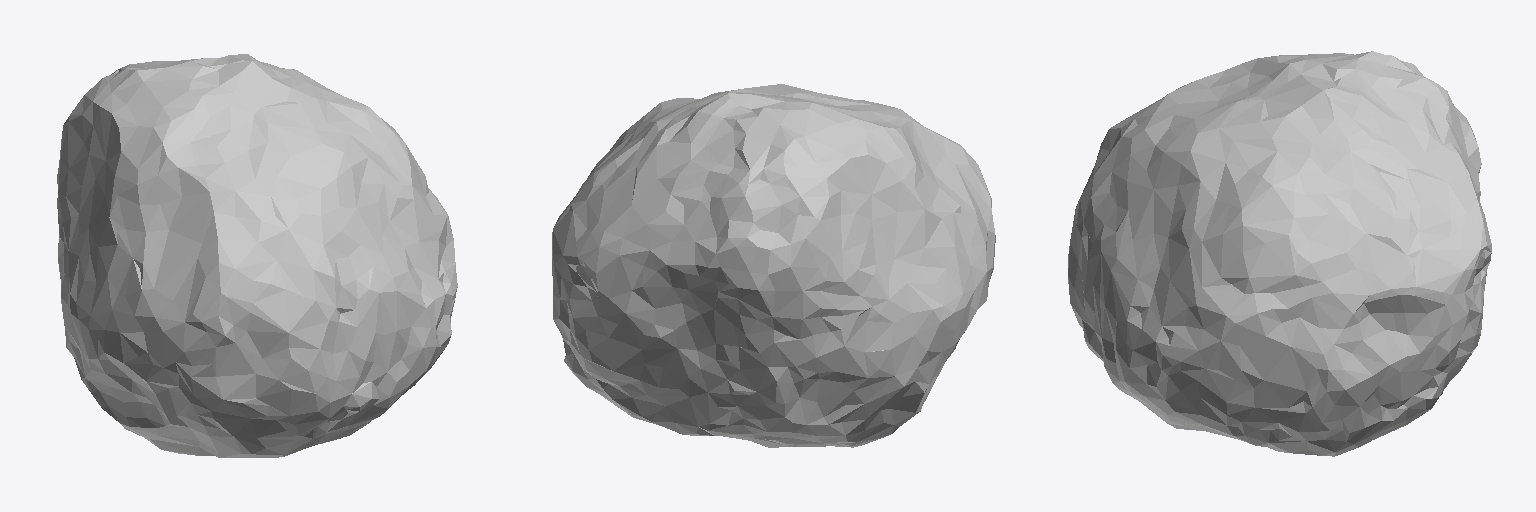
File: asteroidMid.obj
The picture shows the model from 3 angles: view 1: azimuth 30°, elevation 25°; view 2: azimuth 150°, elevation 25°; view 3: azimuth 270°, elevation 25°; orthographic projection.
Parts seen in each view (by area): view 1: file1; view 2: file1; view 3: file1.
Part boxes in pixels (left/top/right/bottom): file1: left=57, top=54, right=457, bottom=457; file1: left=552, top=84, right=995, bottom=447; file1: left=1068, top=51, right=1491, bottom=456.
Bounding box in the file's own units: 1.99 × 1.82 × 2.